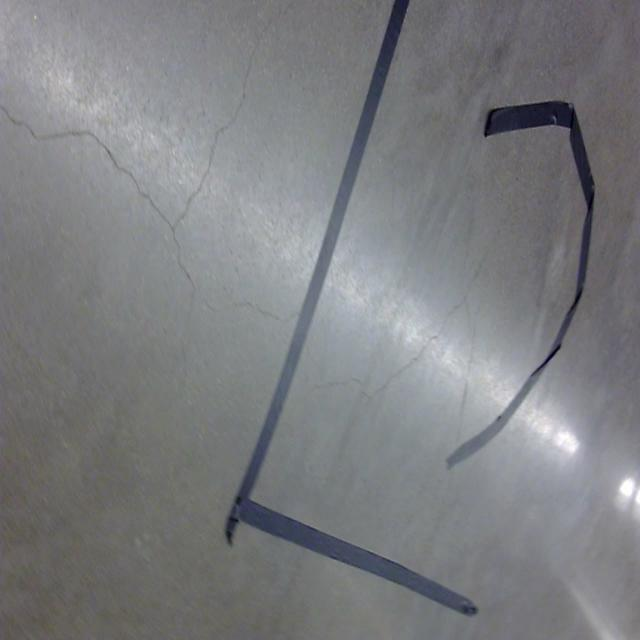tape: (175, 0, 504, 631), (428, 61, 613, 492)
